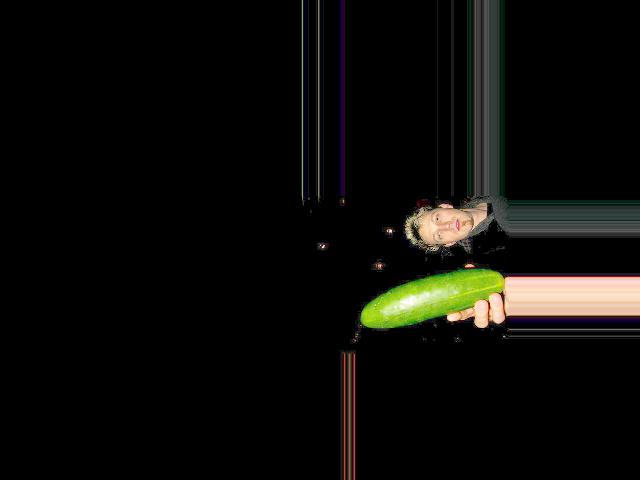cucumber: (361, 270, 503, 329)
